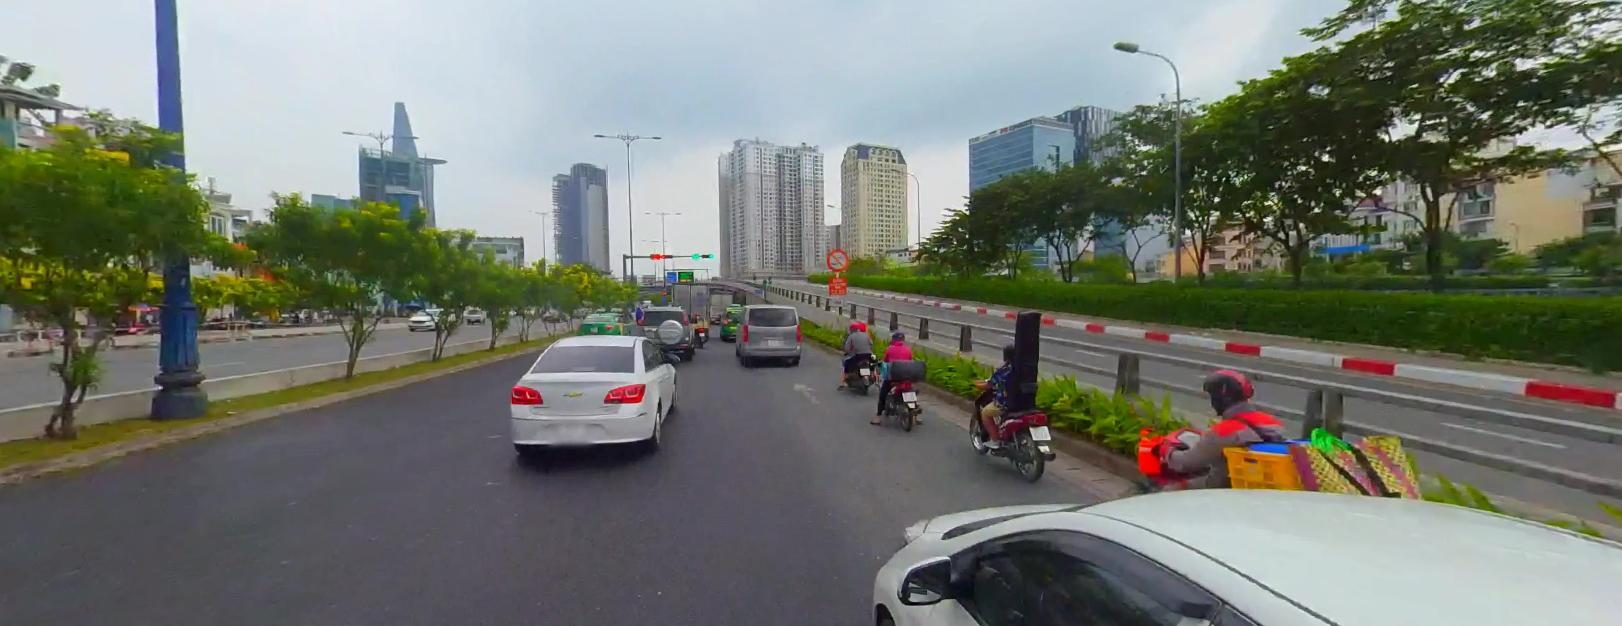Cam con lai: (827, 248, 849, 270)
Cam nguoc chieu: (662, 288, 667, 293)
Hieu lenh: (661, 294, 667, 301)
